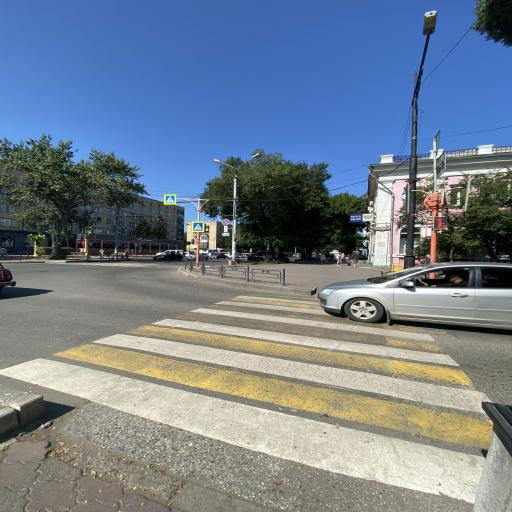book: (318, 262, 512, 329)
chair: (0, 264, 492, 503), (75, 260, 175, 268)
pole: (433, 216, 448, 230)
